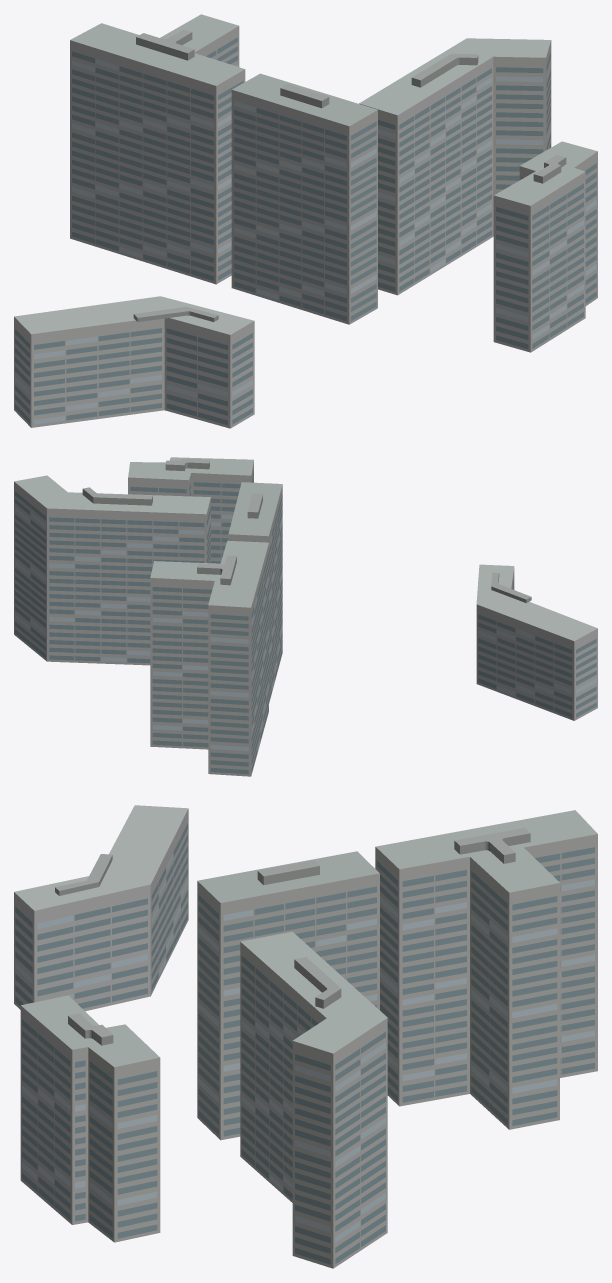
Rendered from apt-a15283709.glb.
The picture shows the model from 3 angles, top to bottom: view 1: azimuth 30°, elevation 25°; view 2: azimuth 150°, elevation 25°; view 3: azimuth 270°, elevation 25°; orthographic projection. The views are drawn at different scales.
Parts seen in each view (by area): view 1: apt-a15283709; view 2: apt-a15283709; view 3: apt-a15283709.
Boxes of the visible parts, bbox=[...] form: apt-a15283709: bbox=[14, 14, 597, 428]; apt-a15283709: bbox=[14, 457, 597, 776]; apt-a15283709: bbox=[14, 805, 597, 1268].
Size of the model in its own units: 205 by 67 by 144.
